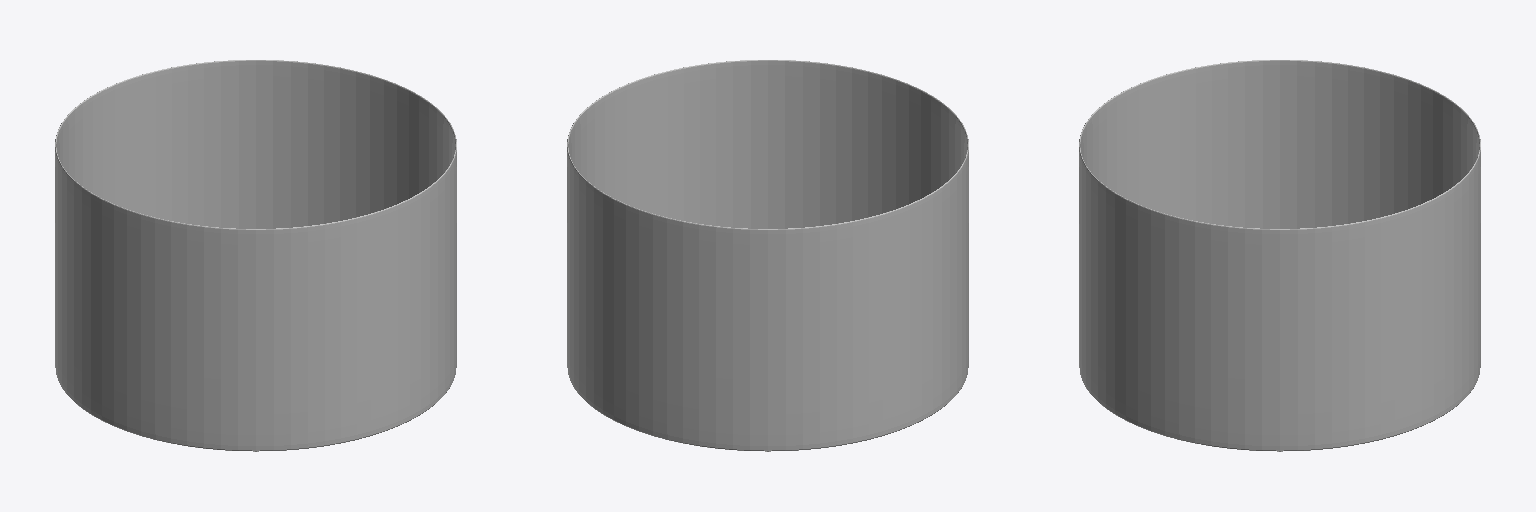
The model's file is teapot.obj.
3 renders of one model, left to right at view 1: azimuth 30°, elevation 25°; view 2: azimuth 150°, elevation 25°; view 3: azimuth 270°, elevation 25°, orthographic.
Visible parts, largest first — view 1: Cylinder104; view 2: Cylinder104; view 3: Cylinder104.
Boxes of the visible parts, x1,y1,x2,y2 form: Cylinder104: [55, 60, 456, 451]; Cylinder104: [567, 60, 968, 451]; Cylinder104: [1079, 60, 1480, 451].
Bounding box in the file's own units: 29130 × 17839 × 29128.